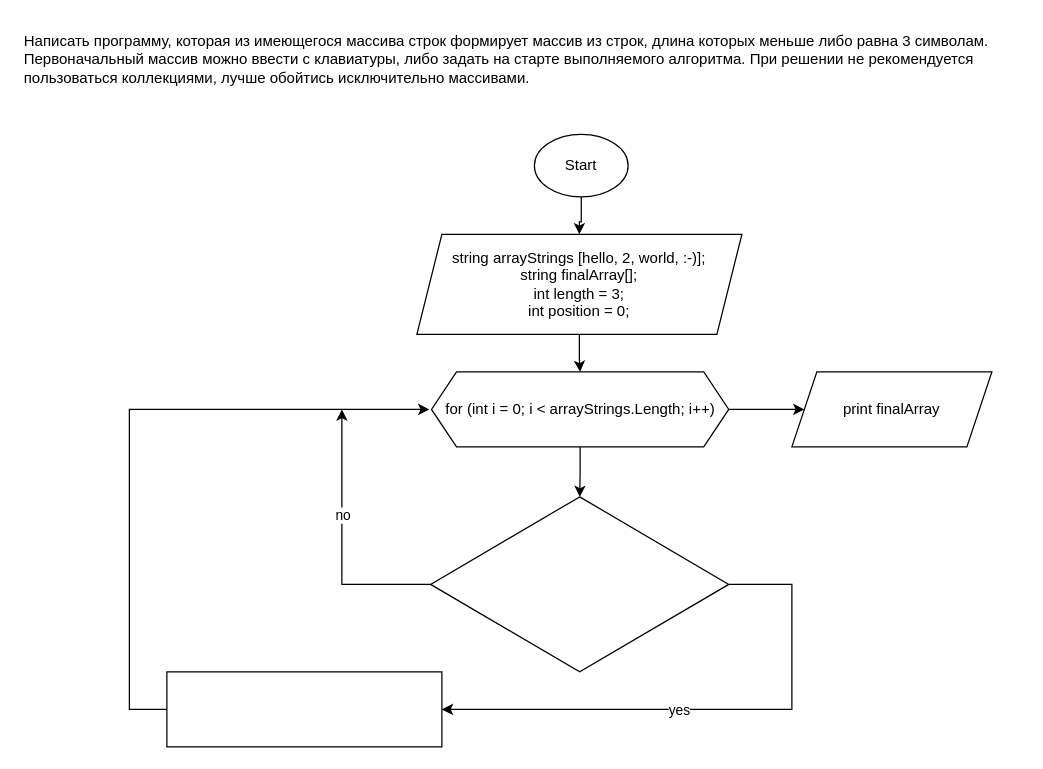
Image size: 1043x769. Some labels were removed from this diagram. The centre of each missing label's shape, as x and y in pixels:
"arrayStrings[i].Length <= length?" goes at [579,584].
"finalArray[position] = arrayStrings[i]; position++;" goes at [304,709].
